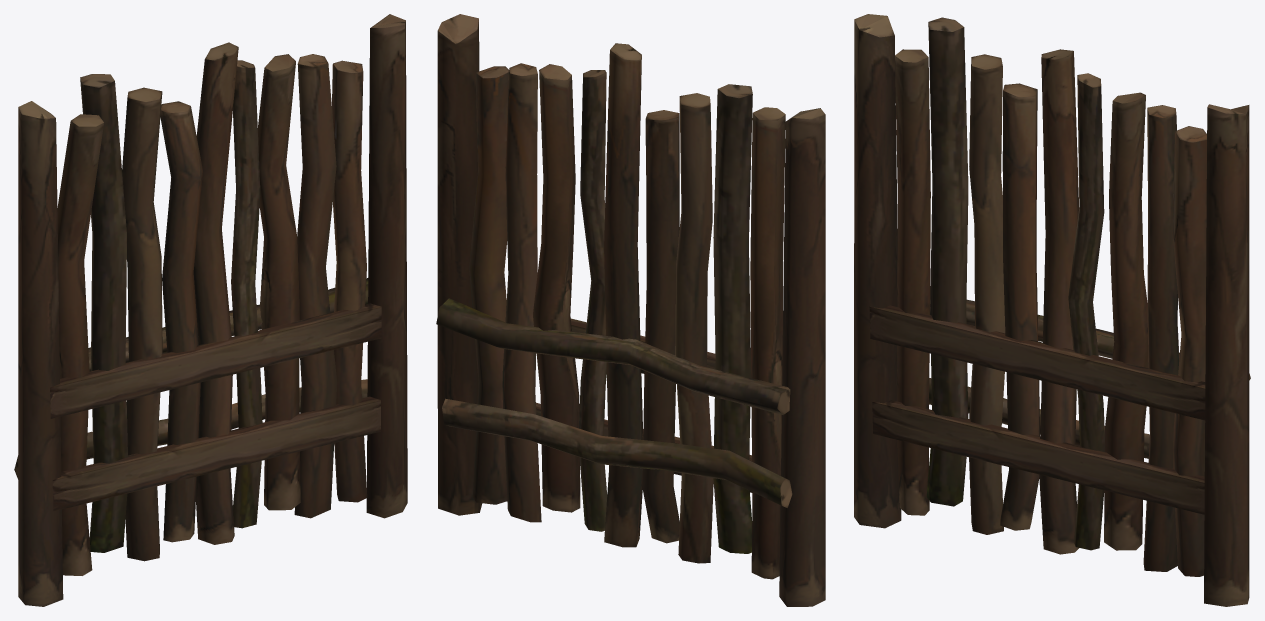
The model's file is mf_wall011.FBX.
3 views of the same model, side by side, from view 1: azimuth 30°, elevation 25°; view 2: azimuth 150°, elevation 25°; view 3: azimuth 330°, elevation 25° (orthographic).
Visible parts, largest first — view 1: mf_wall01_01; view 2: mf_wall01_01; view 3: mf_wall01_01.
Boxes of the visible parts, left/top/right/bottom form: mf_wall01_01: left=14, top=14, right=407, bottom=606; mf_wall01_01: left=436, top=14, right=825, bottom=606; mf_wall01_01: left=854, top=14, right=1250, bottom=606.
Size of the model in its own units: 2 by 2.51 by 0.3549.
Materials: 1 (1 with a texture image).
